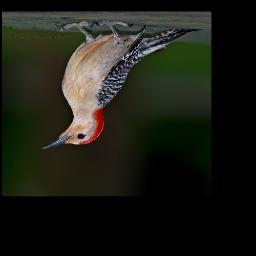Woodpecker: (39, 20, 202, 152)
